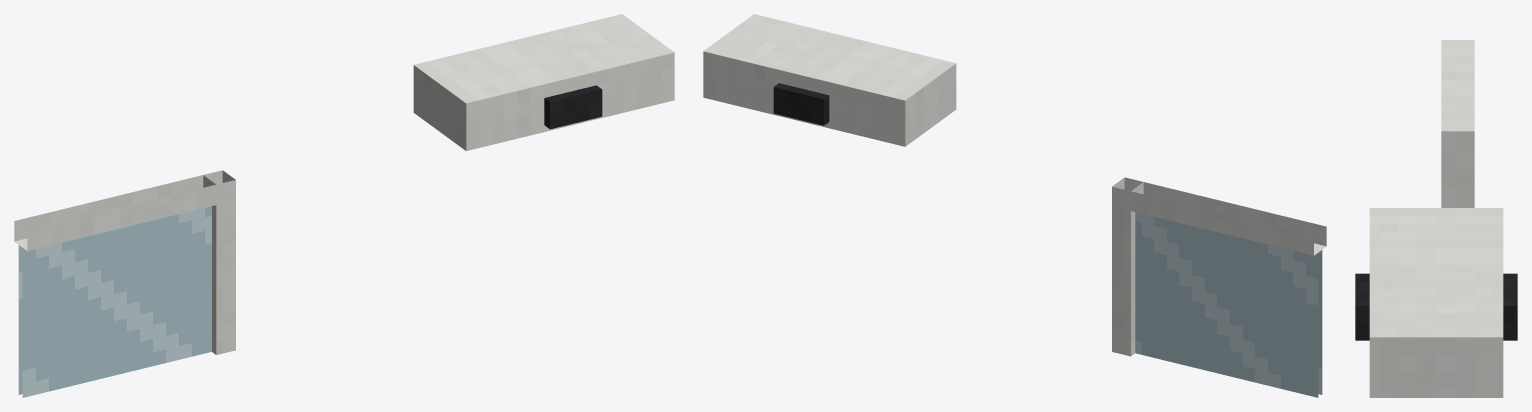
File: auto_door_wide_slider_white_c1_upper_left_open.obj
3 views of the same model, side by side, from view 1: azimuth 30°, elevation 25°; view 2: azimuth 150°, elevation 25°; view 3: azimuth 270°, elevation 25° (orthographic). The views are drawn at different scales.
Parts seen in each view (by area): view 1: auto_door_wide_slider_white_c1_upper_left_open; view 2: auto_door_wide_slider_white_c1_upper_left_open; view 3: auto_door_wide_slider_white_c1_upper_left_open.
Boxes of the visible parts, x1,y1,x2,y2 form: auto_door_wide_slider_white_c1_upper_left_open: (14, 14, 674, 397); auto_door_wide_slider_white_c1_upper_left_open: (703, 14, 1326, 397); auto_door_wide_slider_white_c1_upper_left_open: (1355, 40, 1517, 397).
Size of the model in its own units: 2.97 by 1 by 0.5312.
